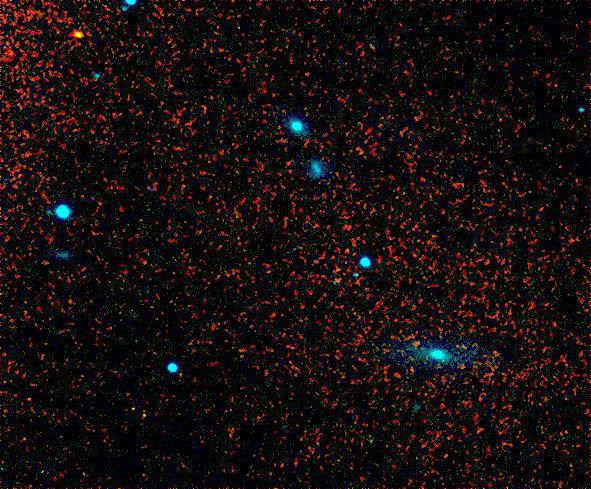star: (63, 17, 93, 47)
